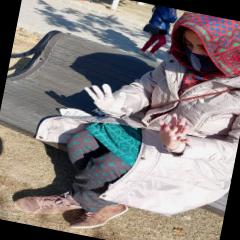gloved: (78, 82, 137, 118)
not-gloved: (154, 110, 198, 154)
